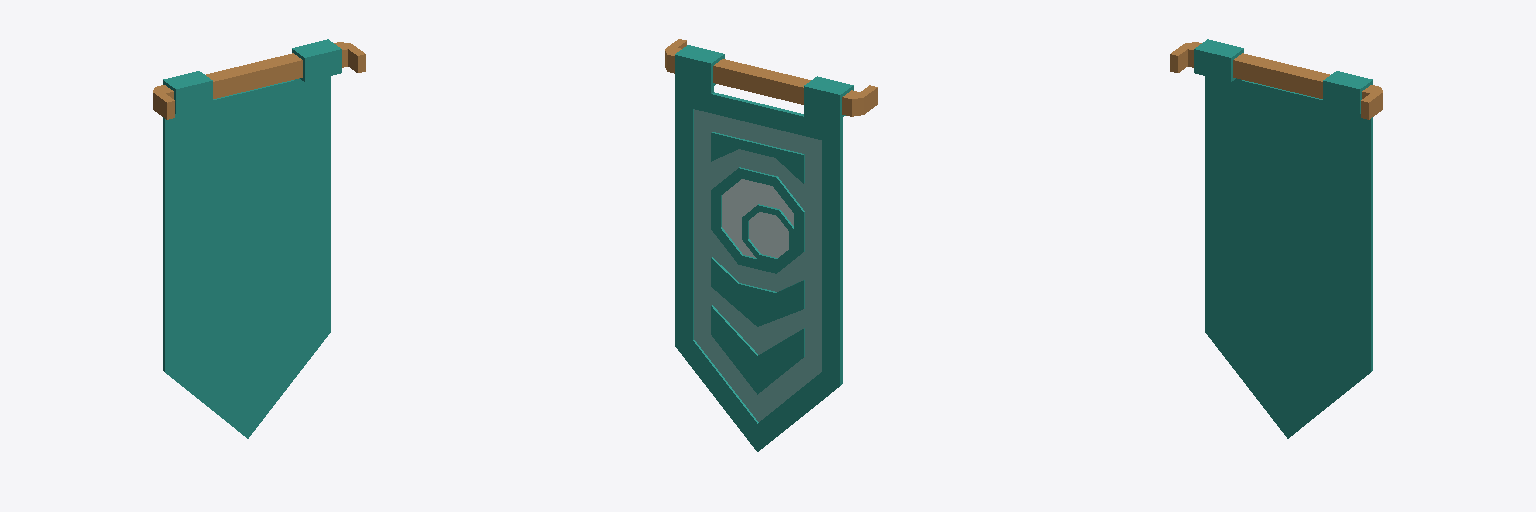
The model's file is Prop_Flag_Eclipse.obj.
The picture shows the model from 3 angles: view 1: azimuth 30°, elevation 25°; view 2: azimuth 150°, elevation 25°; view 3: azimuth 330°, elevation 25°; orthographic projection.
Parts seen in each view (by area): view 1: object2, object1; view 2: object2, object1; view 3: object2, object1.
Boxes of the visible parts, <box> form: object2: <box>163,39,341,438</box>; object1: <box>153,42,365,119</box>; object2: <box>675,45,853,451</box>; object1: <box>665,39,877,116</box>; object2: <box>1194,39,1372,438</box>; object1: <box>1170,42,1382,119</box>.
Bounding box in the file's own units: 0.54 × 0.979 × 0.099.